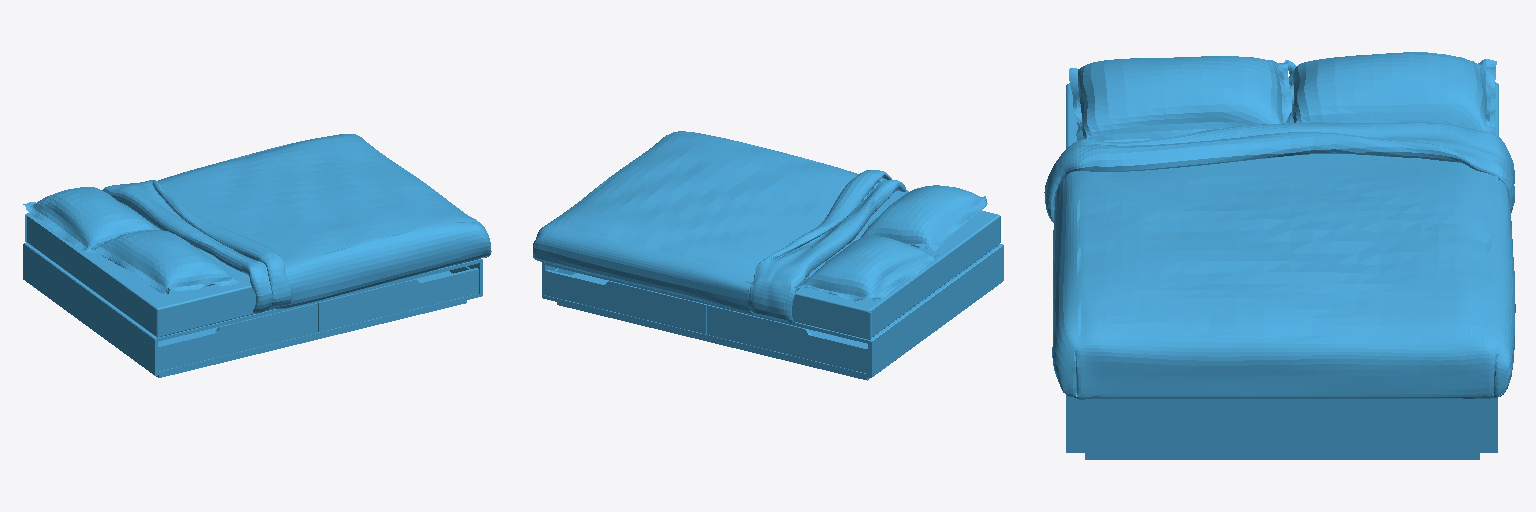
URDF robot description (bed_robot):
<?xml version="1.0" ?>
<robot name="bed_robot" xmlns:xacro="http://ros.org/wiki/xacro">

    <link name="world" />

    <link name="bed_link">
        <visual>
            <origin rpy="0 0 0" xyz="-1.5575628280639648 1.7635917663574219 -0.9648744463920593"/>
            <geometry>
                <mesh filename="mandal_bed_1_obj0_object.obj" scale="0.02 0.02 0.02"/>
            </geometry>
        </visual>
        <collision>
            <origin rpy="0 0 0" xyz="-1.5575628280639648 1.7635917663574219 -0.9648744463920593"/>
            <geometry>
                <mesh filename="mandal_bed_1_obj0_object.obj" scale="0.02 0.02 0.02"/>
            </geometry>
        </collision>
        <inertial>
            <mass value="30.455"/>
            <origin xyz="0 0 0"/>
            <inertia ixx="0.6022" ixy="-0.02364" ixz="-0.1197" iyy="1.7386" iyz="-0.001544" izz="2.0296"/>
        </inertial>
    </link>

    <joint name="joint_structure" type="fixed">
        <origin xyz="0.500 -1.750 -2.000" rpy="1.57079 0 0" />
        <parent link="world" />
        <child link="bed_link" />
    </joint>

</robot>

--- Facts derived from the render (not from the file) ---
The picture shows the robot from 3 angles, left to right: view 1: azimuth 30°, elevation 25°; view 2: azimuth 150°, elevation 25°; view 3: azimuth 270°, elevation 25°; orthographic projection.
Robot: bed_robot — 2 links, 1 joints (1 fixed); root link world; default pose: every joint at zero.
Links seen in each view (by area): view 1: bed_link; view 2: bed_link; view 3: bed_link.
Link boxes in pixels (x1,y1,x2,y2): bed_link: (23,134,491,377); bed_link: (533,131,1003,380); bed_link: (1044,52,1515,459).
Size in the robot's own frame: 1.65 by 1.2 by 0.4896 metres.
Meshes: 1 distinct files referenced, 1 mesh visuals loaded (1 OBJ).
